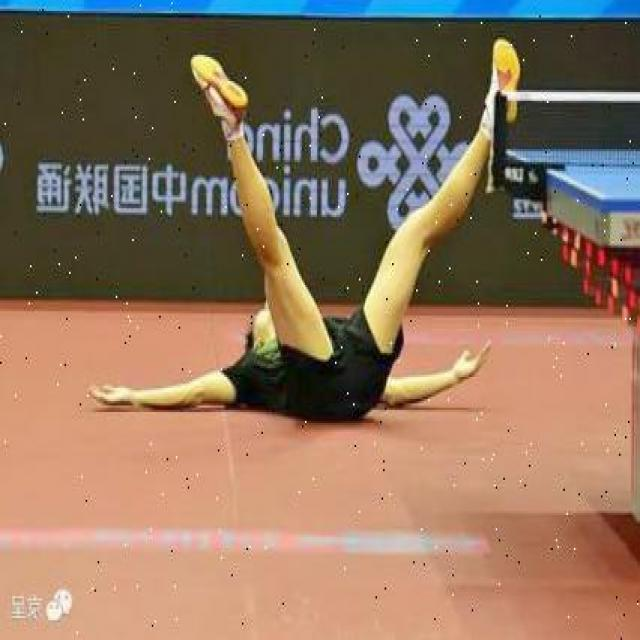fall: (106, 147, 478, 412)
